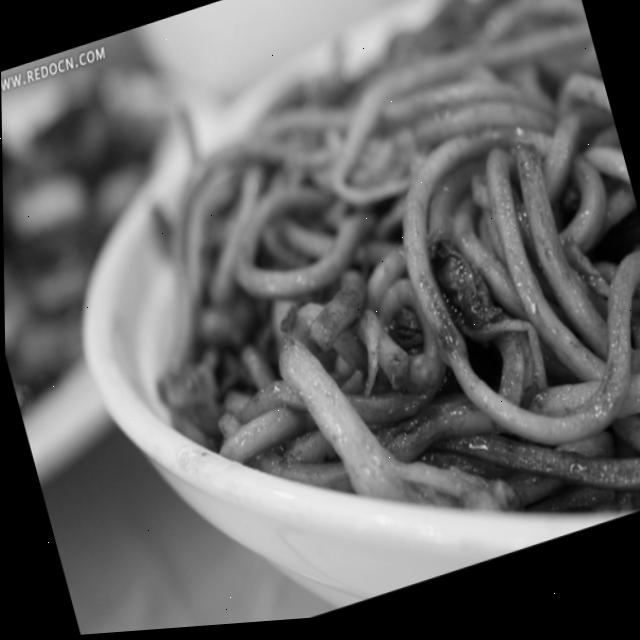面条主食: (96, 0, 640, 634)
